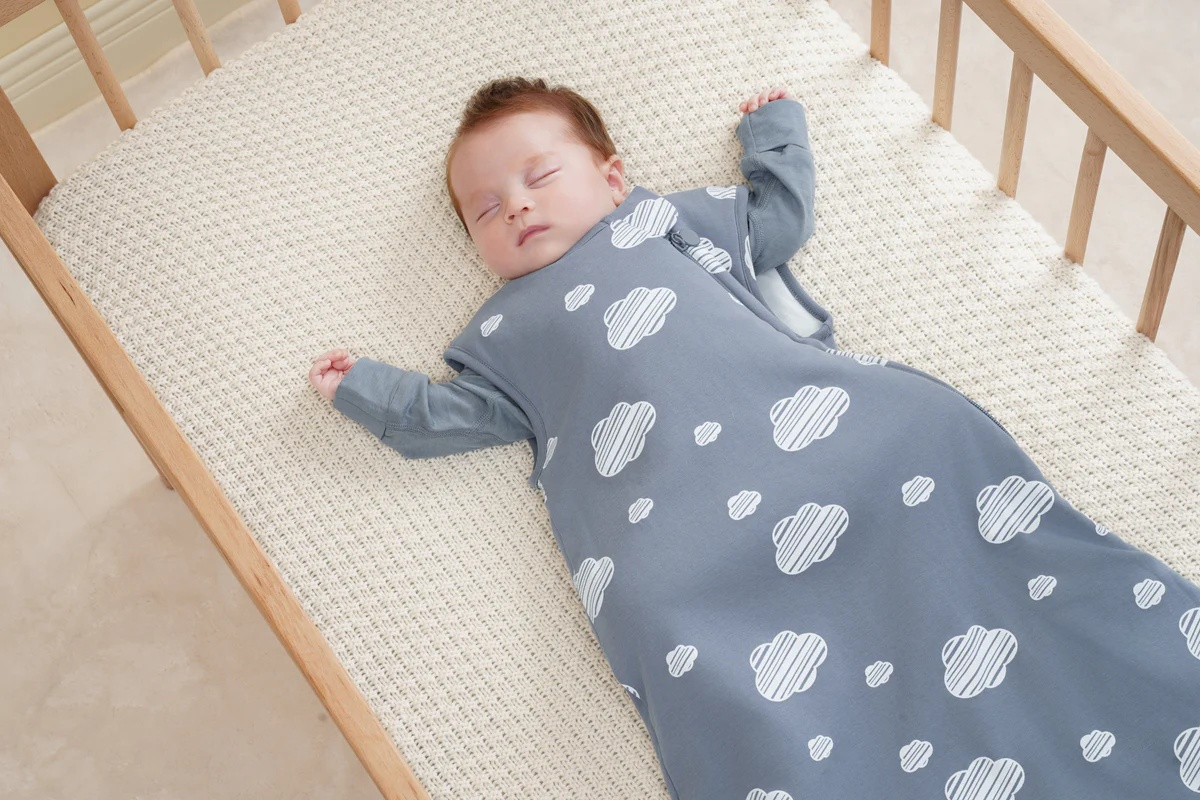baby: (311, 79, 1199, 799), (446, 78, 627, 278)
crib: (0, 0, 1199, 797)
